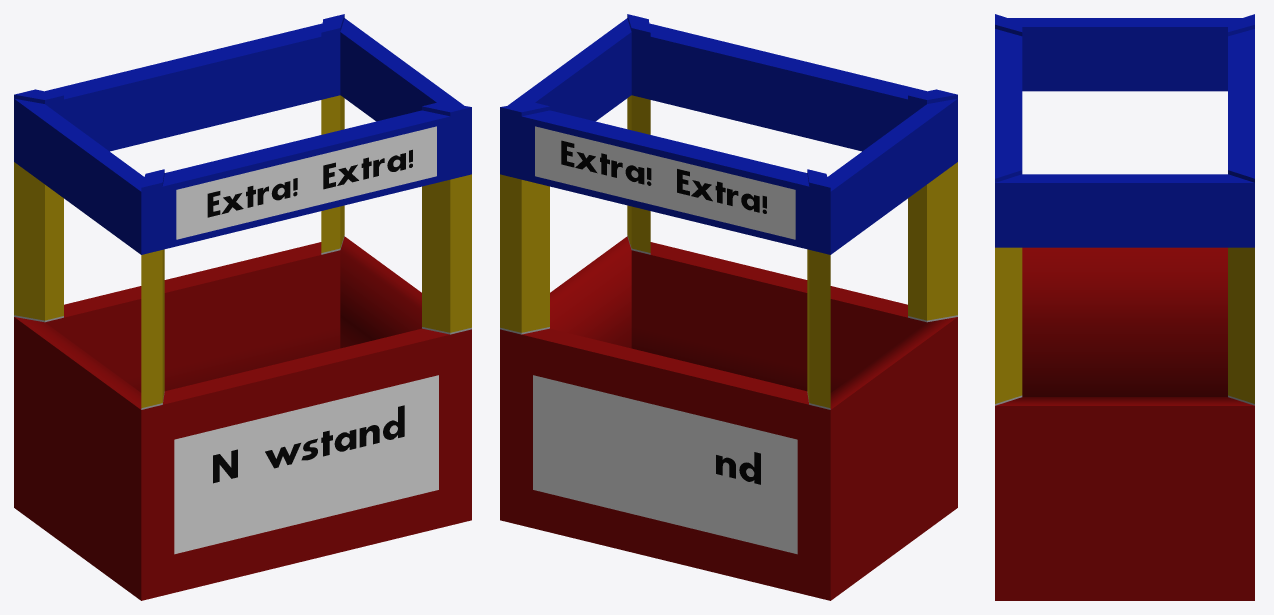
Rendered from newstand.fbx.
3 renders of one model, left to right at view 1: azimuth 30°, elevation 25°; view 2: azimuth 150°, elevation 25°; view 3: azimuth 270°, elevation 25°, orthographic. The views are drawn at different scales.
Visible parts, largest first — view 1: pCube1; view 2: pCube1; view 3: pCube1.
Boxes of the visible parts, x1,y1,x2,y2 form: pCube1: (14, 14, 471, 600); pCube1: (500, 14, 957, 600); pCube1: (995, 14, 1254, 600).
Bounding box in the file's own units: 6 × 7.17 × 4.21.
